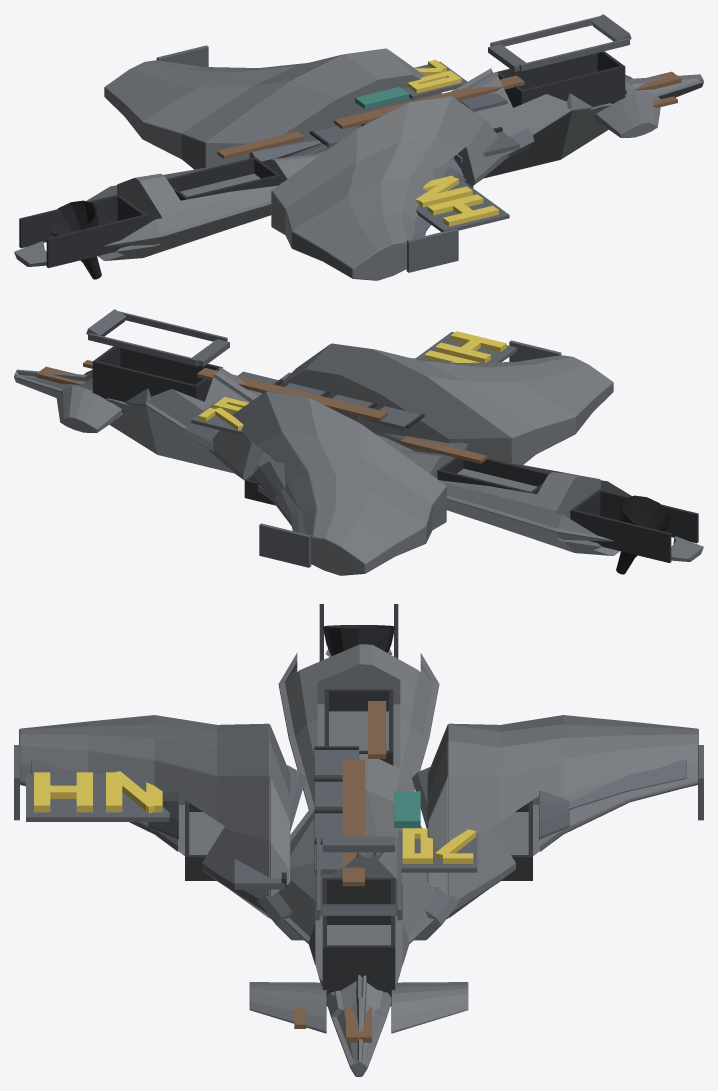
Rendered from hornet_production_v1_lod2.glb.
3 renders of one model, top to bottom at view 1: azimuth 30°, elevation 25°; view 2: azimuth 150°, elevation 25°; view 3: azimuth 270°, elevation 25°, orthographic. The views are drawn at different scales.
Visible parts, largest first — view 1: LOD0_Hull, LOD0_Wing_Port, LOD0_Wing_Stbd, LOD0_Drive_Fore, LOD0_DigitPlaque, LOD0_Letter0_B, LOD0_DirtCanard, LOD0_Canard_Port, LOD0_Bell, LOD0_MarkingPlate; view 2: LOD0_Hull, LOD0_Wing_Stbd, LOD0_Wing_Port, LOD0_Drive_Fore, LOD0_DigitPlaque, LOD0_DirtCanard, LOD0_Letter0_B, LOD0_Canard_Stbd, LOD0_Bell; view 3: LOD0_Hull, LOD0_Wing_Stbd, LOD0_Wing_Port, LOD0_DigitPlaque, LOD0_Drive_Fore, LOD0_Letter0_B, LOD0_DirtCanard, LOD0_Canard_Stbd, LOD0_Canard_Port, LOD0_Bell, LOD0_MarkingPlate.
Boxes of the visible parts, left/top/right/bottom form: LOD0_Hull: left=14, top=48, right=703, bottom=266; LOD0_Wing_Port: left=271, top=96, right=508, bottom=280; LOD0_Wing_Stbd: left=104, top=48, right=385, bottom=169; LOD0_Drive_Fore: left=19, top=51, right=625, bottom=267; LOD0_DigitPlaque: left=156, top=14, right=631, bottom=272; LOD0_Letter0_B: left=407, top=59, right=498, bottom=226; LOD0_DirtCanard: left=217, top=71, right=681, bottom=159; LOD0_Canard_Port: left=594, top=90, right=660, bottom=137; LOD0_Bell: left=46, top=200, right=101, bottom=279; LOD0_MarkingPlate: left=355, top=87, right=409, bottom=109; LOD0_Hull: left=14, top=343, right=703, bottom=561; LOD0_Wing_Stbd: left=209, top=391, right=446, bottom=575; LOD0_Wing_Port: left=332, top=343, right=613, bottom=464; LOD0_Drive_Fore: left=92, top=346, right=698, bottom=562; LOD0_DigitPlaque: left=86, top=309, right=561, bottom=567; LOD0_DirtCanard: left=36, top=360, right=487, bottom=463; LOD0_Letter0_B: left=198, top=331, right=506, bottom=430; LOD0_Canard_Stbd: left=56, top=385, right=123, bottom=432; LOD0_Bell: left=616, top=495, right=671, bottom=574; LOD0_Hull: left=256, top=644, right=461, bottom=1076; LOD0_Wing_Stbd: left=448, top=715, right=698, bottom=918; LOD0_Wing_Port: left=19, top=715, right=269, bottom=918; LOD0_DigitPlaque: left=14, top=745, right=703, bottom=918; LOD0_Drive_Fore: left=185, top=604, right=532, bottom=1006; LOD0_Letter0_B: left=34, top=771, right=476, bottom=863; LOD0_DirtCanard: left=294, top=701, right=386, bottom=1042; LOD0_Canard_Stbd: left=391, top=982, right=468, bottom=1033; LOD0_Canard_Port: left=249, top=982, right=326, bottom=1033; LOD0_Bell: left=322, top=625, right=395, bottom=656; LOD0_MarkingPlate: left=394, top=791, right=420, bottom=827.
Size of what is drawn, in the model's own units: 10.6 by 1.96 by 6.82.
